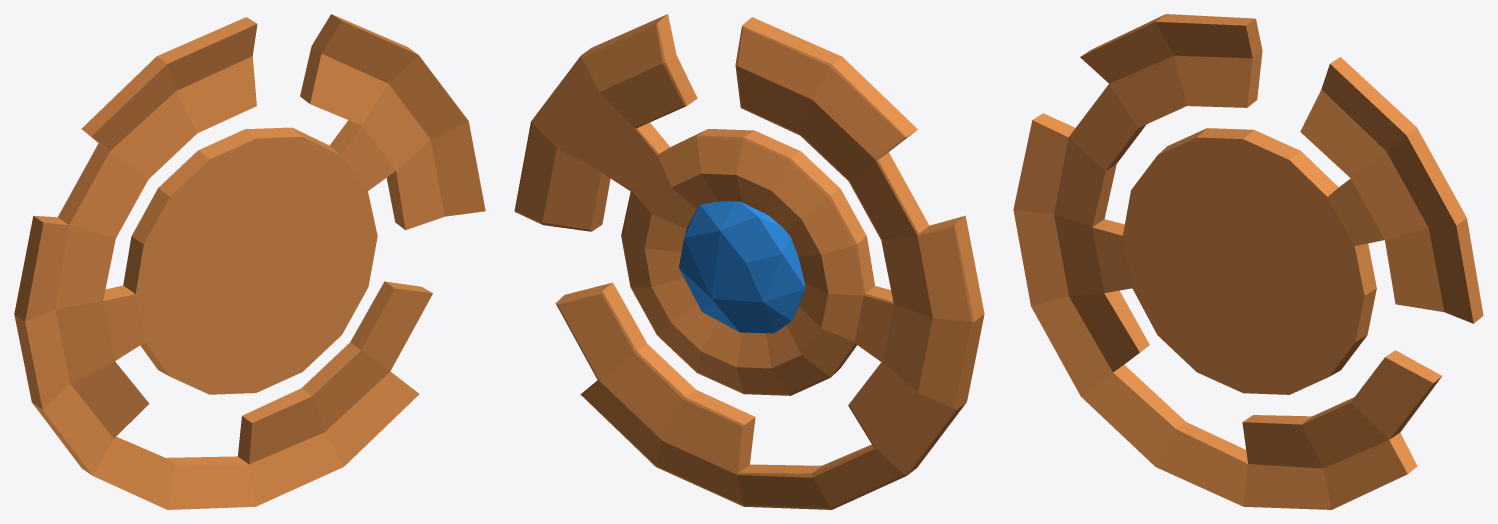
File: Broken Amulet.fbx
The picture shows the model from 3 angles, left to right: view 1: azimuth 30°, elevation 25°; view 2: azimuth 150°, elevation 25°; view 3: azimuth 330°, elevation 25°; orthographic projection.
Parts seen in each view (by area): view 1: Gem; view 2: Gem; view 3: Gem.
Part boxes in pixels (box(x1,y1,x2,y2)): Gem: box(14, 14, 485, 509); Gem: box(514, 14, 984, 509); Gem: box(1013, 14, 1483, 509).
Bounding box in the file's own units: 499 × 499 × 45.92.
